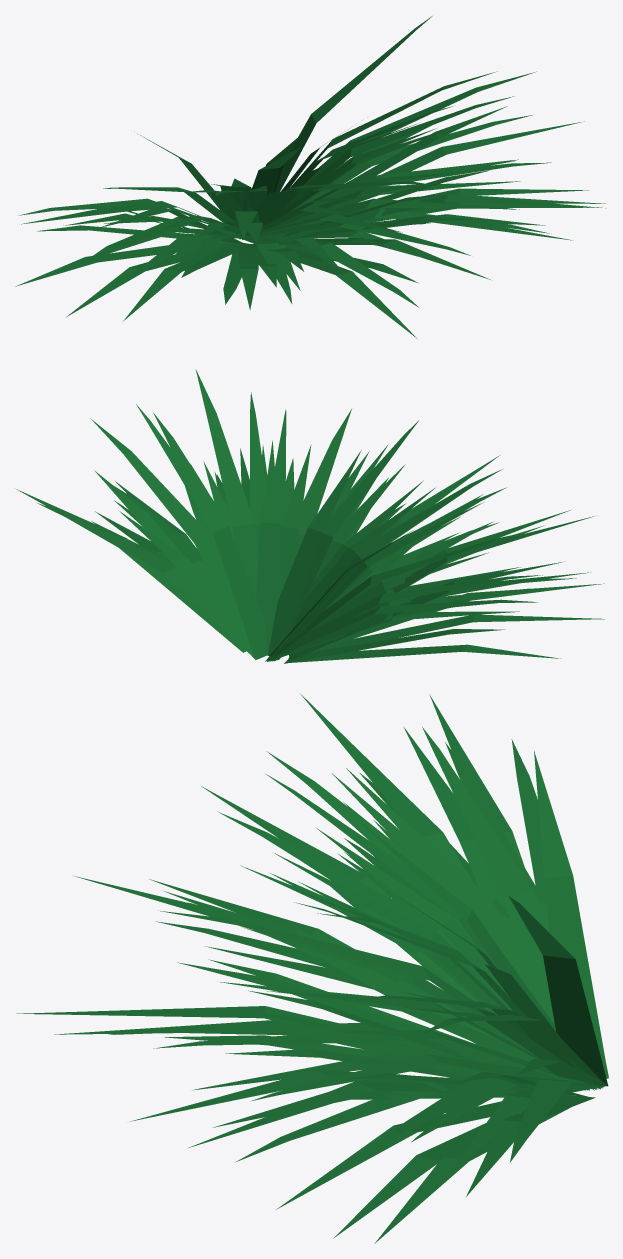
Rendered from grass2.obj.
The picture shows the model from 3 angles, top to bottom: view 1: azimuth 30°, elevation 25°; view 2: azimuth 150°, elevation 25°; view 3: azimuth 270°, elevation 25°; orthographic projection. The views are drawn at different scales.
Bounding box in the file's own units: 1.75 × 0.5801 × 1.02.
